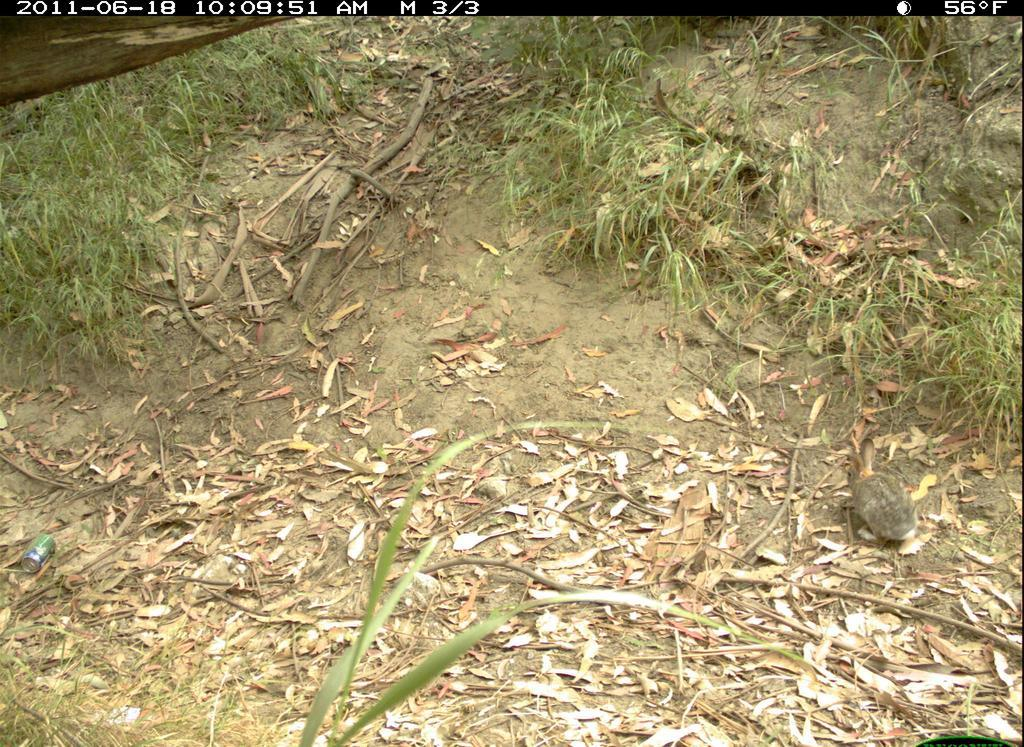rabbit: (831, 432, 929, 556)
